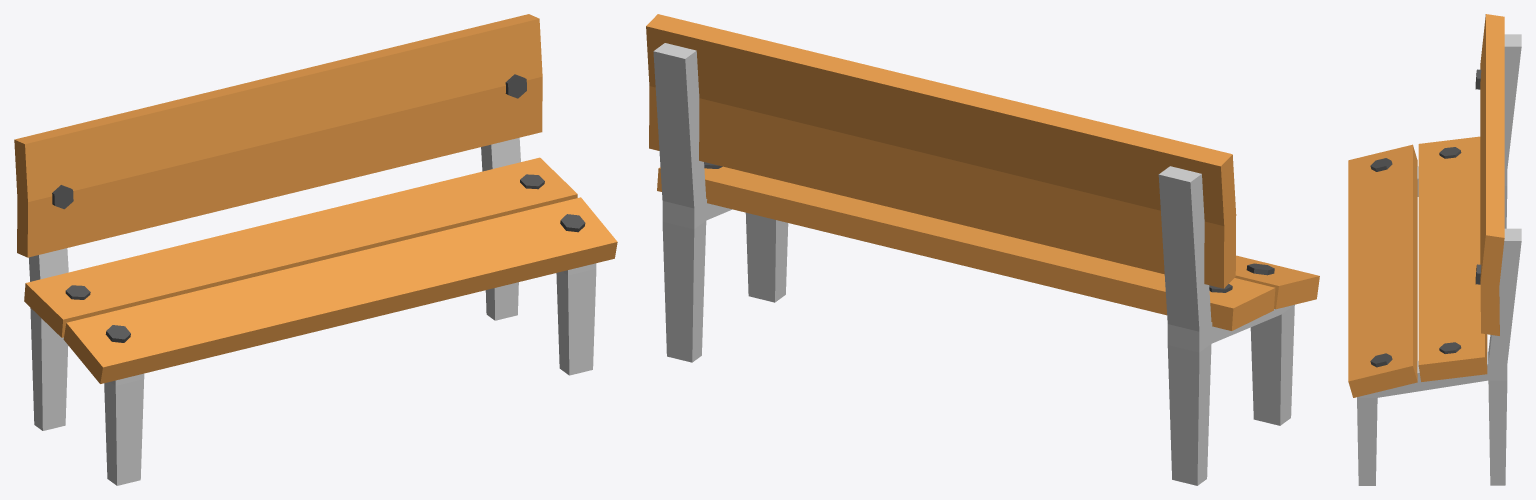
File: zhuangshi_06.FBX
3 views of the same model, side by side, from view 1: azimuth 30°, elevation 25°; view 2: azimuth 150°, elevation 25°; view 3: azimuth 270°, elevation 25° (orthographic). The views are drawn at different scales.
Visible parts, largest first — view 1: zhuangshi_06; view 2: zhuangshi_06; view 3: zhuangshi_06.
Boxes of the visible parts, <box> form: zhuangshi_06: <box>14,14,617,485</box>; zhuangshi_06: <box>646,14,1319,485</box>; zhuangshi_06: <box>1348,14,1521,485</box>.
Size of the model in its own units: 343 by 187 by 114.
